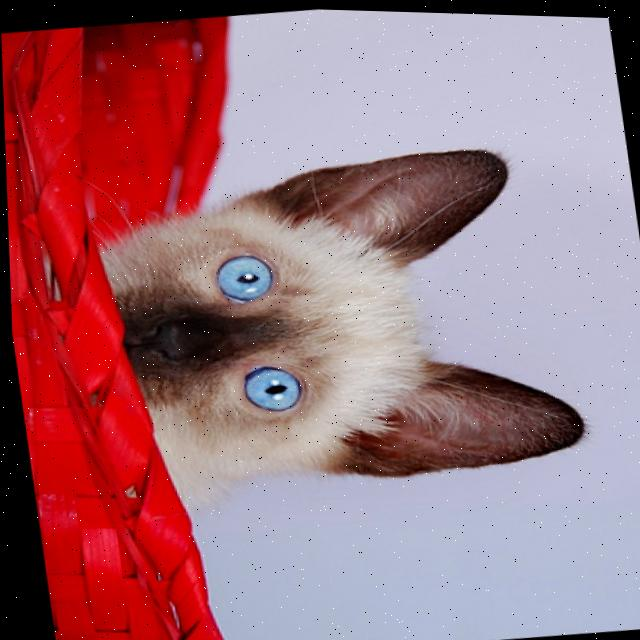Siamese: (79, 122, 598, 537)
